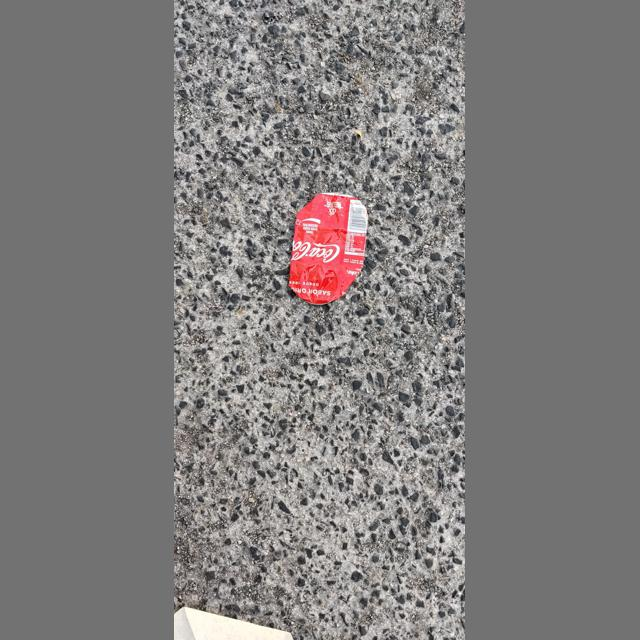litter: (289, 192, 368, 305)
